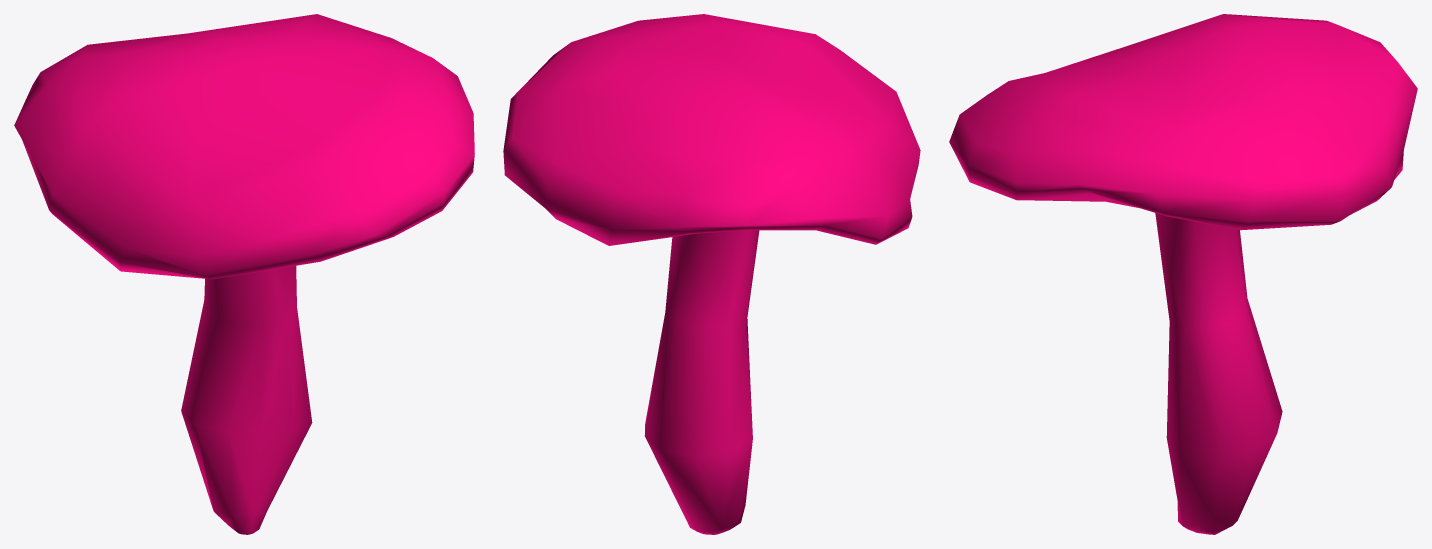
Rendered from SM_SS_Mushroom_3.fbx.
3 renders of one model, left to right at view 1: azimuth 30°, elevation 25°; view 2: azimuth 150°, elevation 25°; view 3: azimuth 270°, elevation 25°, orthographic. The views are drawn at different scales.
Visible parts, largest first — view 1: SM_SS_Mushroom_3; view 2: SM_SS_Mushroom_3; view 3: SM_SS_Mushroom_3.
Boxes of the visible parts, left/top/right/bottom form: SM_SS_Mushroom_3: left=14, top=14, right=474, bottom=534; SM_SS_Mushroom_3: left=503, top=14, right=920, bottom=534; SM_SS_Mushroom_3: left=949, top=14, right=1417, bottom=534.
Bounding box in the file's own units: 16.64 × 17.77 × 20.25.
